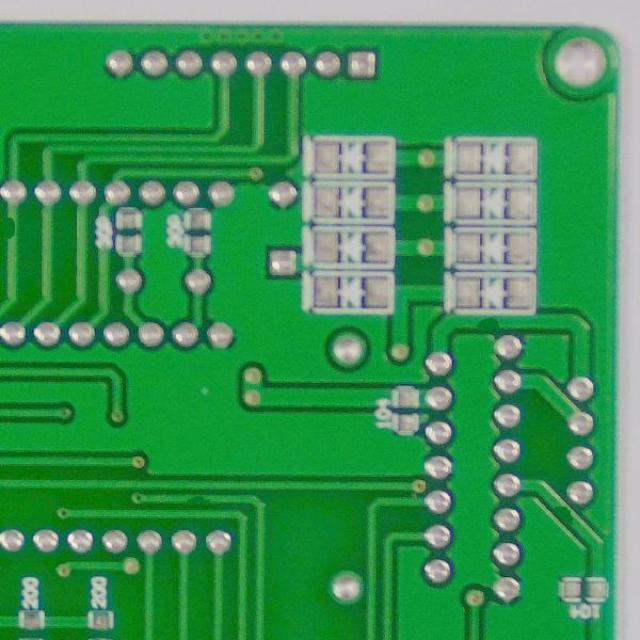MouseBite: (551, 494, 578, 529), (2, 212, 23, 246), (469, 316, 506, 333), (178, 491, 215, 506)
